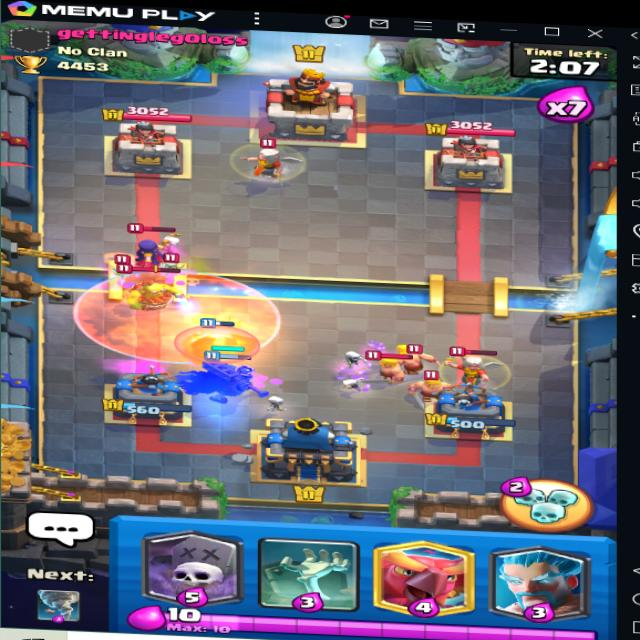Barbarian: (362, 347, 412, 382), (395, 345, 439, 378), (406, 369, 451, 401)
Battlehealer: (443, 343, 514, 396), (228, 139, 304, 183)
Goblindemolisher: (120, 267, 188, 316)
Skeleton: (162, 249, 192, 273)
witch: (130, 228, 178, 268)
